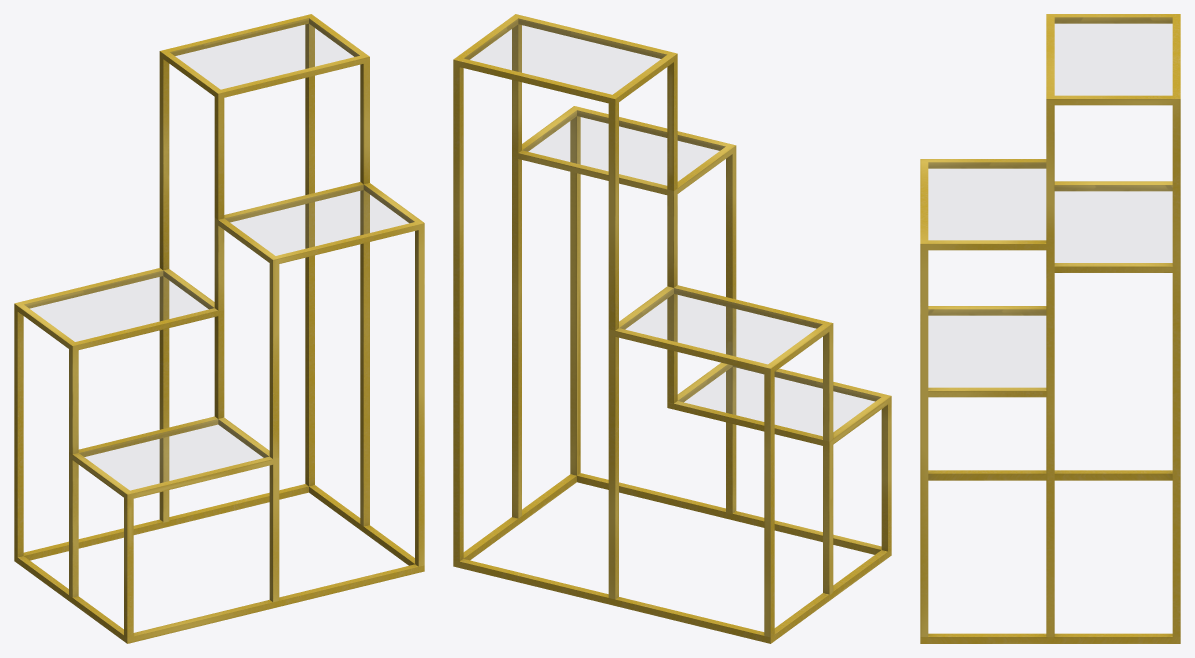
File: Shelf02.fbx
The picture shows the model from 3 angles, left to right: view 1: azimuth 30°, elevation 25°; view 2: azimuth 150°, elevation 25°; view 3: azimuth 270°, elevation 25°; orthographic projection. The views are drawn at different scales.
Parts seen in each view (by area): view 1: Shelf02; view 2: Shelf02; view 3: Shelf02.
Part boxes in pixels (box(x1,y1,x2,y2)): Shelf02: box(14, 14, 424, 643); Shelf02: box(453, 14, 891, 643); Shelf02: box(920, 14, 1180, 643).
Bounding box in the file's own units: 9.42 × 14.36 × 6.21.
2 materials, 1 textured.
